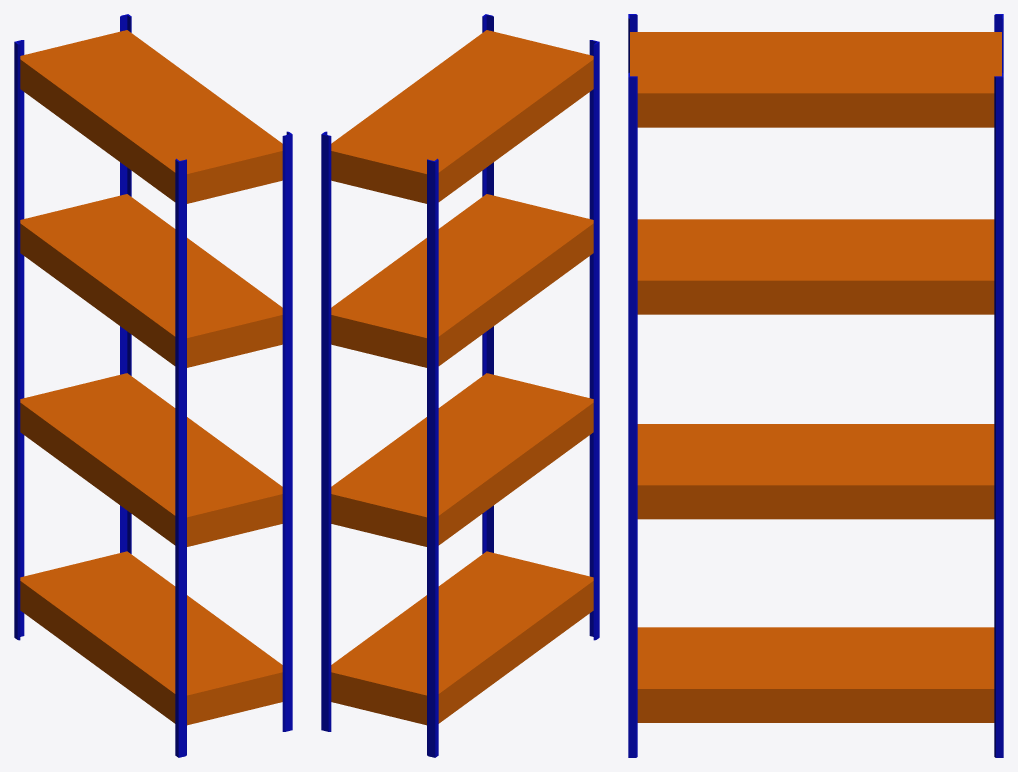
File: rack.fbx
3 renders of one model, left to right at view 1: azimuth 30°, elevation 25°; view 2: azimuth 150°, elevation 25°; view 3: azimuth 270°, elevation 25°, orthographic. The views are drawn at different scales.
Parts seen in each view (by area): view 1: rack; view 2: rack; view 3: rack.
Part boxes in pixels (x1,y1,x2,y2): rack: [14, 14, 292, 757]; rack: [321, 14, 599, 757]; rack: [628, 14, 1003, 757].
Bounding box in the file's own units: 40 × 200 × 100.
